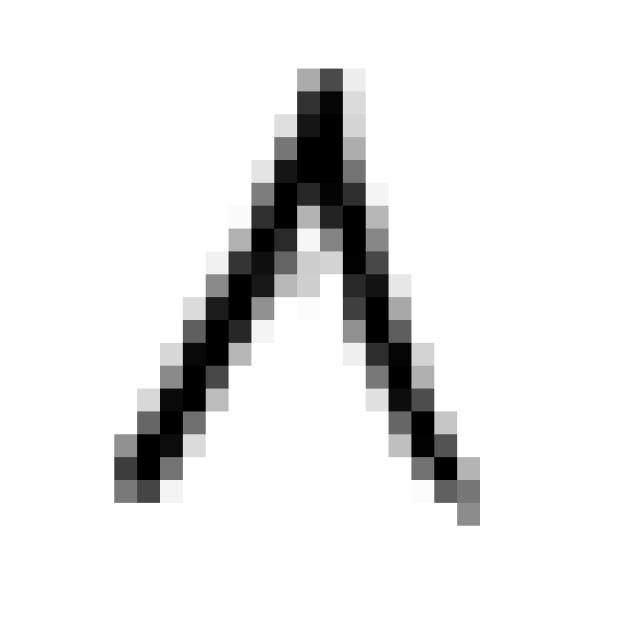8 -eight-: (93, 46, 496, 560)
